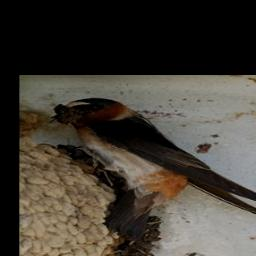Swallow: (54, 98, 256, 219)
